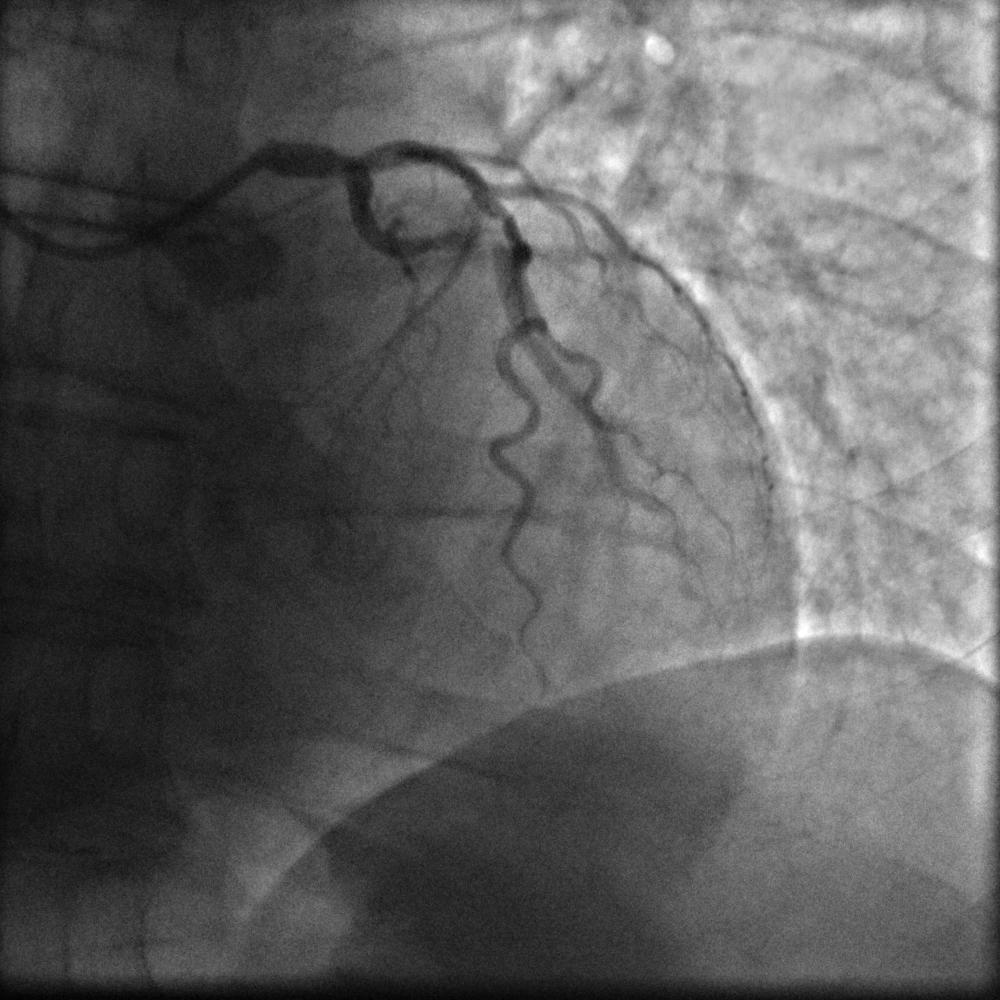Stenosis: (457, 224, 511, 259)
